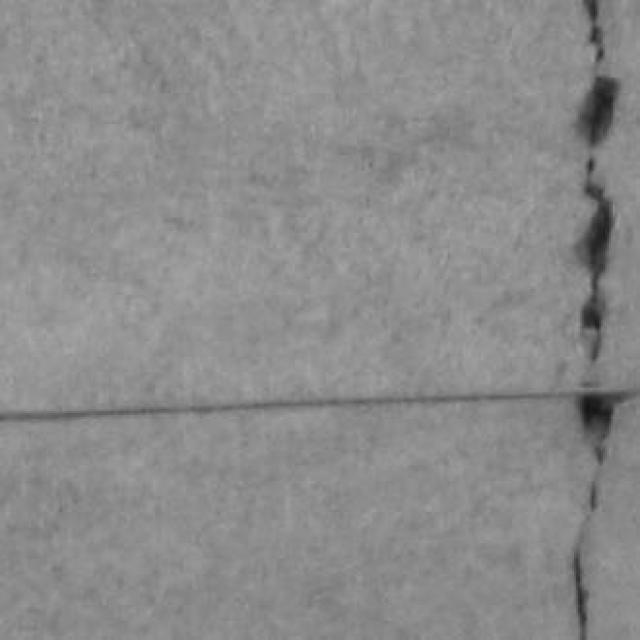crack: (576, 0, 620, 364), (573, 394, 618, 639)
